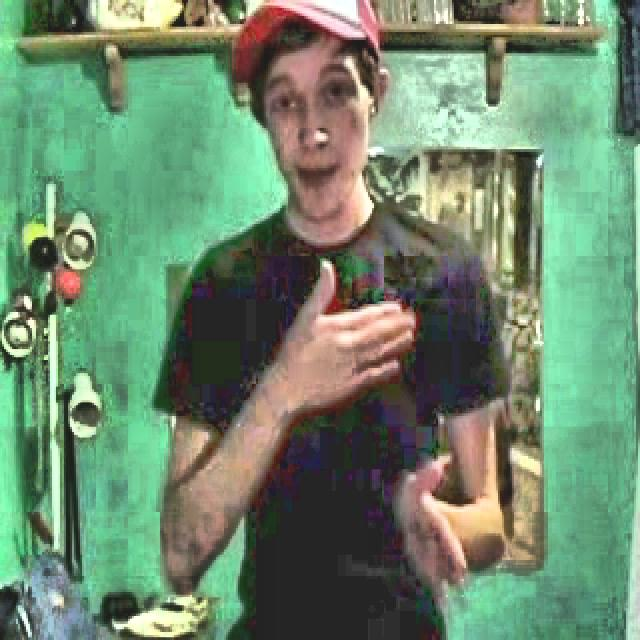F: (169, 2, 480, 640)
